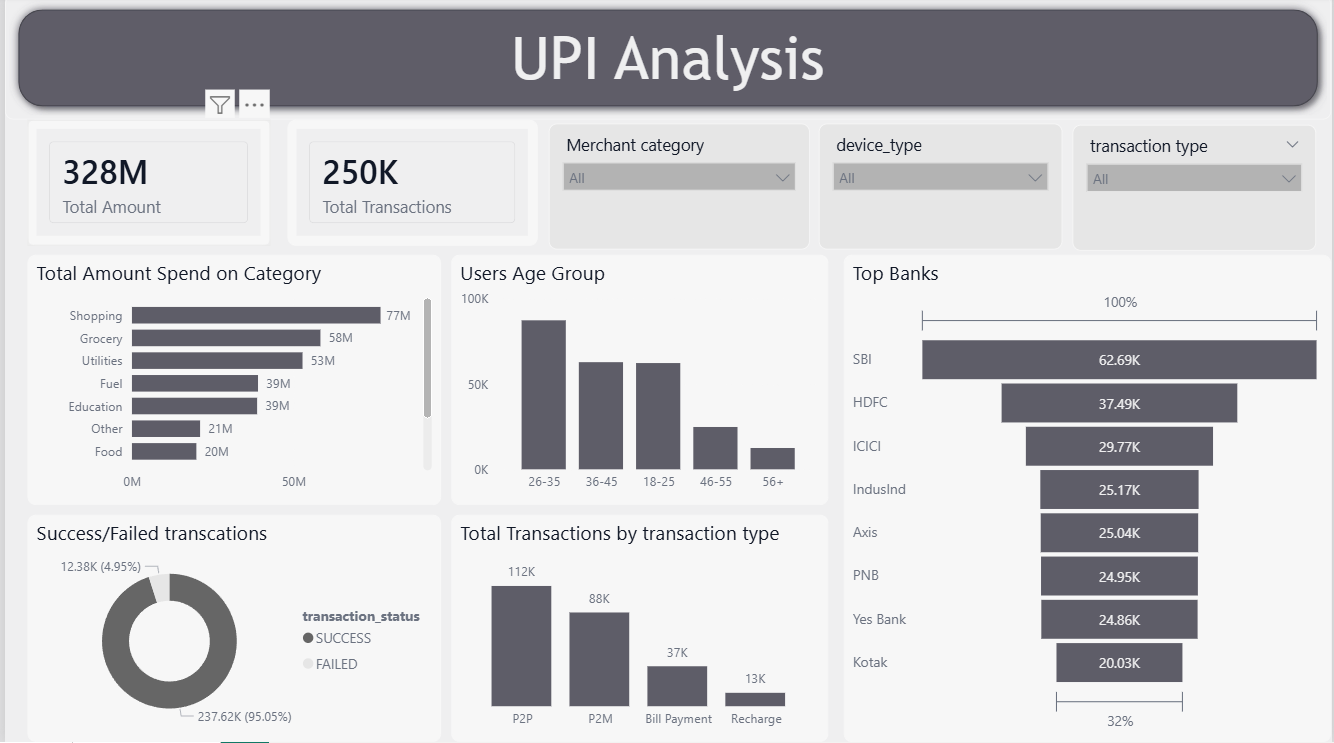

What the dashboard file says about the page in this screenshot:
{"tool":"powerbi","page":{"name":"Overview","canvas":[1280,720],"ordinal":0},"visuals":[{"type":"shape","box":[0,0,1280,119.4],"z":0},{"type":"cardVisual","fields":{"Data":["Measure.Total Amount"]},"box":[21.7,119.4,234,121.9],"z":1},{"type":"cardVisual","fields":{"Data":["Measure.Total Transactions"]},"box":[272.7,119.4,241.3,121.9],"z":2},{"type":"slicer","fields":{"Values":["upi_transactions_2024.merchant_category"]},"box":[525.3,123.3,252.1,121.9],"z":3},{"type":"slicer","fields":{"Values":["upi_transactions_2024.device_type"]},"box":[785.3,123.3,235.3,121.9],"z":4},{"type":"barChart","title":"Total Amount Spend on Category","fields":{"Category":["upi_transactions_2024.merchant_category"],"Y":["Measure.Total Amount"]},"box":[21.7,249.7,399.3,241.3],"z":5},{"type":"donutChart","title":"Success/Failed transcations","fields":{"Category":["upi_transactions_2024.transaction_status"],"Y":["CountNonNull(upi_transactions_2024.transaction_status)"]},"box":[21.7,500.7,399.3,219.6],"z":6},{"type":"funnel","title":"Top Banks","fields":{"Category":["upi_transactions_2024.sender_bank"],"Y":["CountNonNull(upi_transactions_2024.transaction id)"]},"box":[809.5,249.7,470.5,470.5],"z":7},{"type":"clusteredColumnChart","title":"Users Age Group","fields":{"Y":["CountNonNull(upi_transactions_2024.transaction id)"],"Category":["upi_transactions_2024.sender_age_group"]},"box":[430.7,249.7,364.3,241.3],"z":8},{"type":"columnChart","fields":{"Y":["Measure.Total Transactions"],"Category":["upi_transactions_2024.transaction type"]},"box":[431,501,364,219],"z":9},{"type":"slicer","fields":{"Values":["upi_transactions_2024.transaction type"]},"box":[1030.3,124.3,235.3,121.9],"z":10}]}

Visuals, with their boxes in screenshot pixels (x1, y1, x2, y2), scaled from the page's 1280x720 canvas onto the 1334x743 screenshot:
shape: (0,0,1333,123)
cardVisual - Measure.Total Amount: (23,123,266,249)
cardVisual - Measure.Total Transactions: (284,123,536,249)
slicer - upi_transactions_2024.merchant_category: (547,127,810,253)
slicer - upi_transactions_2024.device_type: (818,127,1064,253)
"Total Amount Spend on Category" barChart: (23,258,439,507)
"Success/Failed transcations" donutChart: (23,517,439,742)
"Top Banks" funnel: (844,258,1333,742)
"Users Age Group" clusteredColumnChart: (449,258,829,507)
columnChart - Measure.Total Transactions x upi_transactions_2024.transaction type: (449,517,829,742)
slicer - upi_transactions_2024.transaction type: (1074,128,1319,254)
